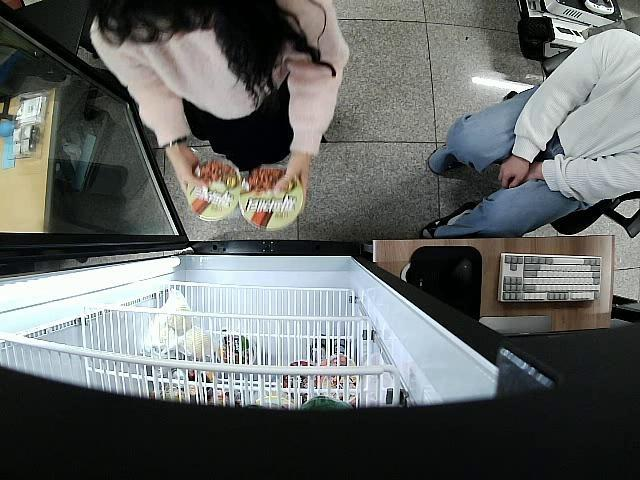03_chapagetti_L: (241, 166, 304, 229), (187, 158, 240, 222)
